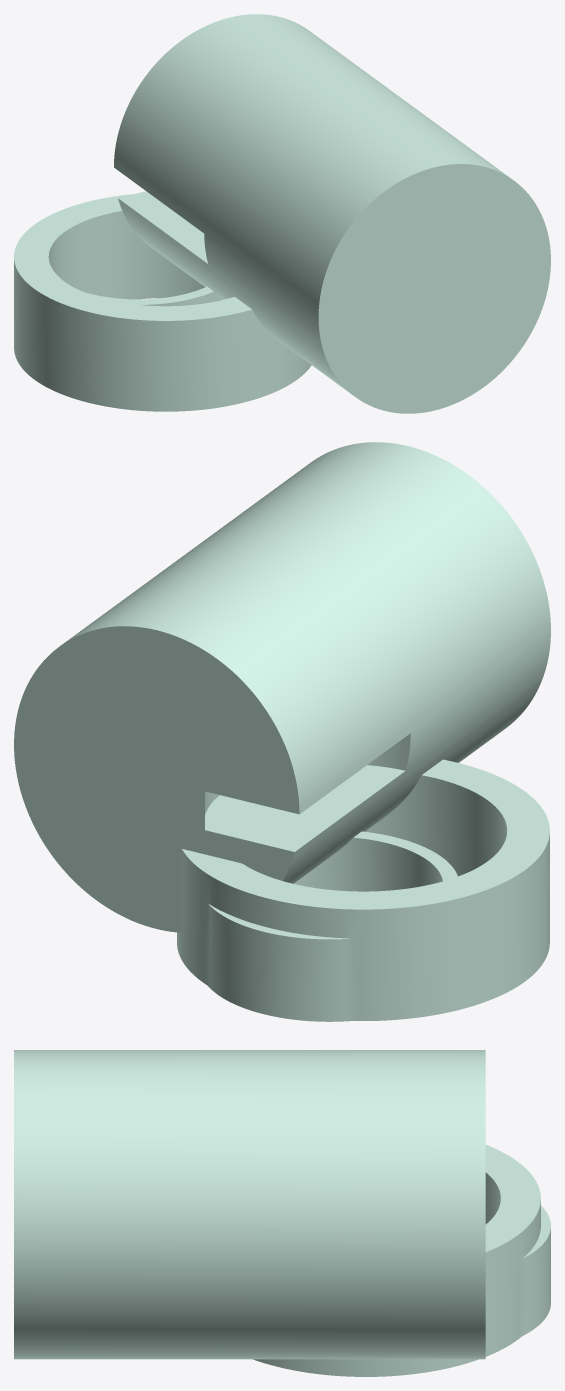
The picture shows the model from 3 angles, top to bottom: view 1: azimuth 30°, elevation 25°; view 2: azimuth 150°, elevation 25°; view 3: azimuth 270°, elevation 25°; orthographic projection. The views are drawn at different scales.
Visible parts, largest first — view 1: Renderer Node; view 2: Renderer Node; view 3: Renderer Node.
Boxes of the visible parts, left/top/right/bottom form: Renderer Node: left=14, top=14, right=550, bottom=413; Renderer Node: left=14, top=442, right=550, bottom=1021; Renderer Node: left=14, top=1050, right=550, bottom=1376.
Bounding box in the file's own units: 0.7539 × 0.522 × 0.8359.
